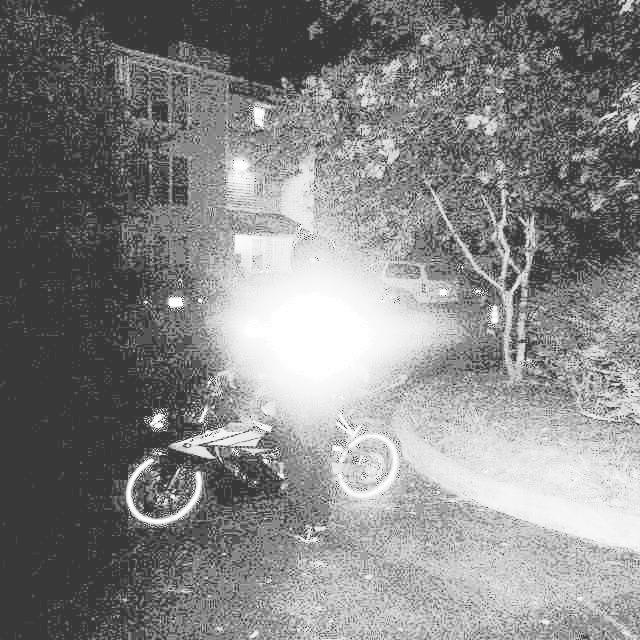Motorcycle: (133, 328, 454, 526)
